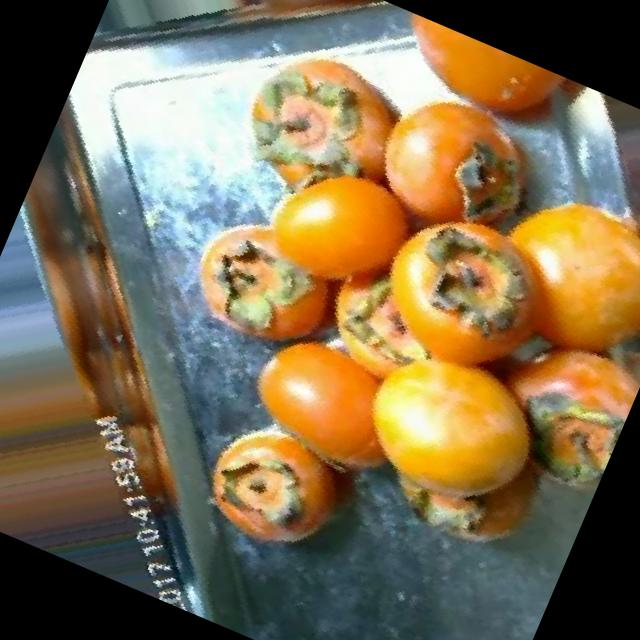Fruit: (164, 382, 398, 598)
